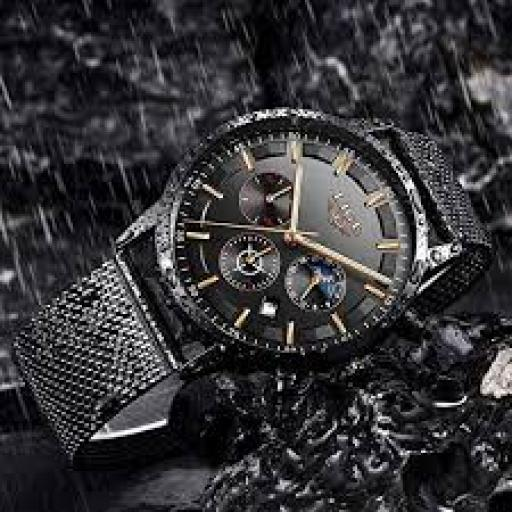KolSaati: (4, 68, 440, 426)
